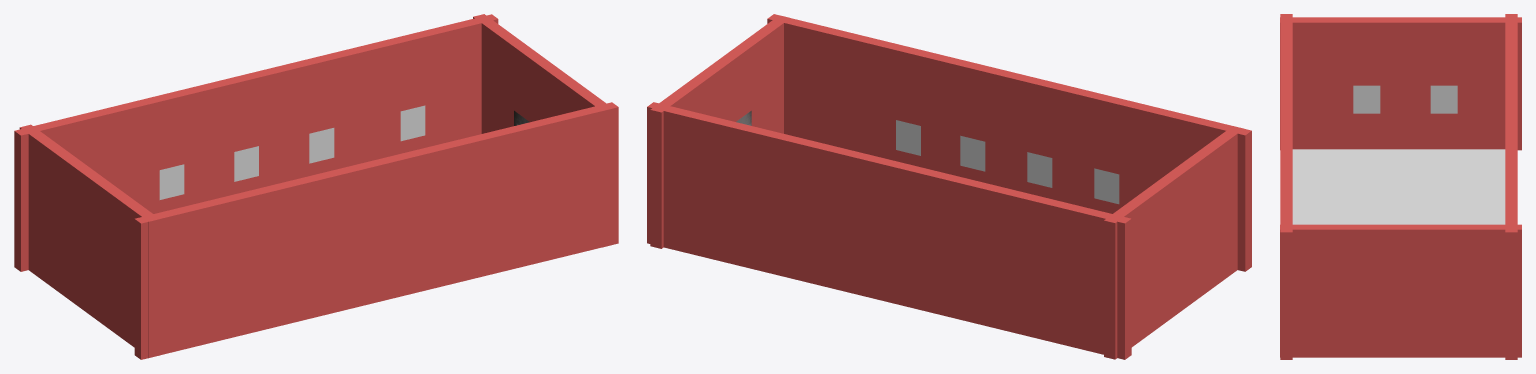
The model's file is interactives_puno85.glb.
3 renders of one model, left to right at view 1: azimuth 30°, elevation 25°; view 2: azimuth 150°, elevation 25°; view 3: azimuth 270°, elevation 25°, orthographic. The views are drawn at different scales.
Visible parts, largest first — view 1: Box, Box_1, Box_3, Box_2, KAZIMIERSKI, MIER-JEDRZEJOWICZ, FALKOWSKI, TABORSKA; view 2: Box_1, Box, Box_3, Box_2, CESARIA, SULIMIRSKI, BRZESKI, HALECKI; view 3: Box_2, Box_3, Floor.002, Box, Box_1, SKOWRONSKI-SAS, DREWNOWSKI.
Boxes of the visible parts, x1,y1,x2,y2 form: Box: (134,102,618,359); Box_1: (14,14,498,271); Box_3: (19,124,159,357); Box_2: (473,14,613,247); KAZIMIERSKI: (309,128,334,163); MIER-JEDRZEJOWICZ: (400,105,425,141); FALKOWSKI: (159,164,184,199); TABORSKA: (234,146,258,181); Box_1: (647,102,1131,359); Box: (767,14,1251,271); Box_3: (1104,131,1237,359); Box_2: (650,20,783,248); CESARIA: (1027,152,1052,187); SULIMIRSKI: (1094,168,1119,204); BRZESKI: (960,135,985,171); HALECKI: (896,120,920,155); Box_2: (1280,224,1521,357); Box_3: (1280,17,1521,150); Floor.002: (1292,149,1505,224); Box: (1280,14,1292,359); Box_1: (1505,14,1517,359); SKOWRONSKI-SAS: (1353,85,1380,113); DREWNOWSKI: (1430,85,1457,113).
Size of the model in its own units: 10.09 by 2.75 by 4.72.
2 materials, 1 textured.
